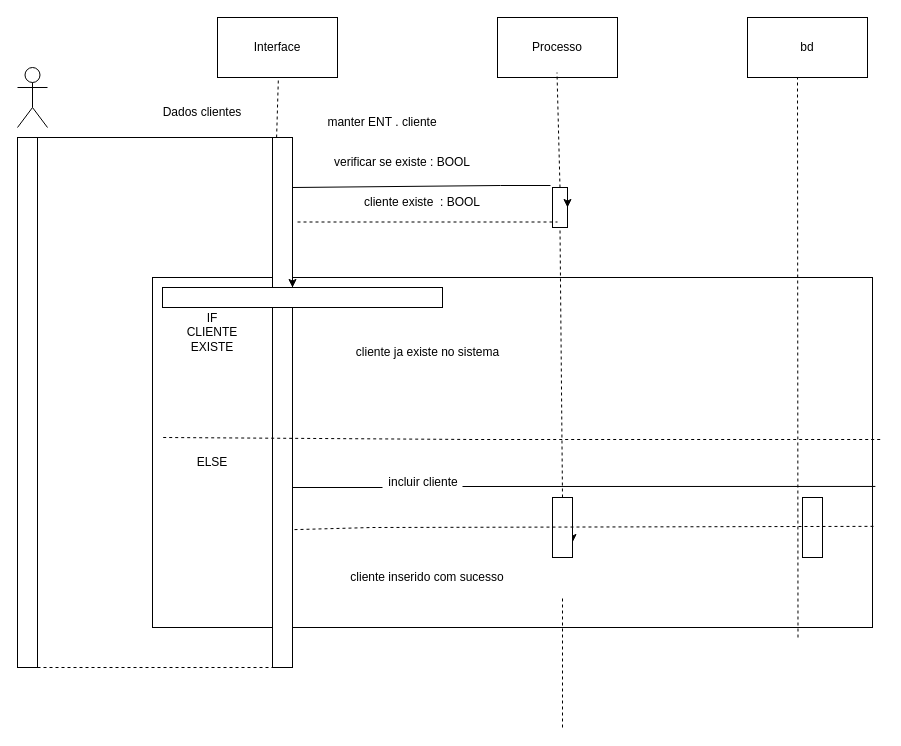
This 901x746 diagram has some shape labels left out. Here are the shapes that lost their labels. From the top down, the centre of each, then its label:
At (x=32, y=97): "Actor".
At (x=302, y=297): "Critical Verificação se o cliente já existe".
